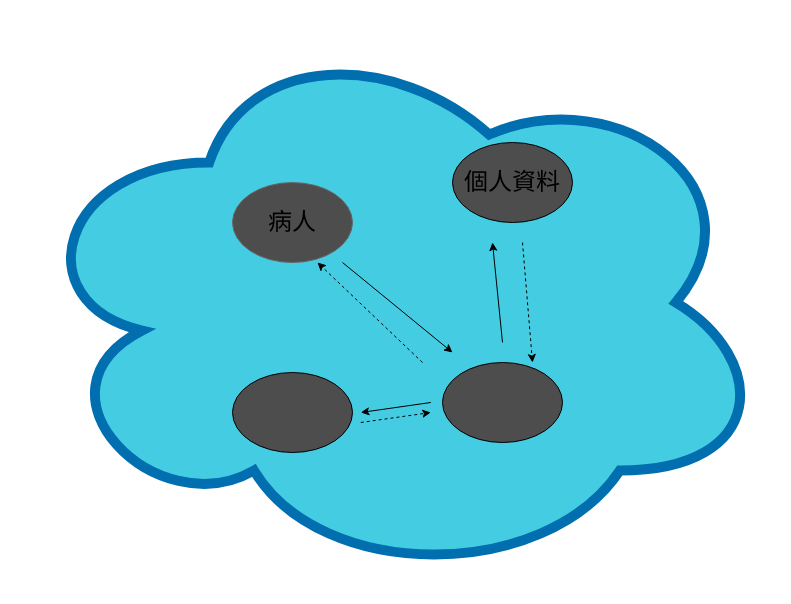
Some shapes in this 791 by 604 pixel diagram are drawn without their labels. Each missing label, with the centre of its shape:
"掛號" goes at (x=502, y=402).
"療程" goes at (x=292, y=412).
